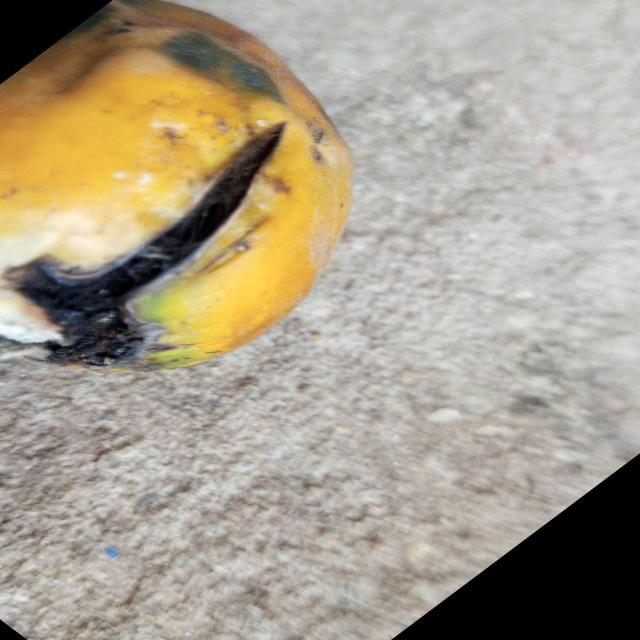damaged: (0, 0, 352, 372)
